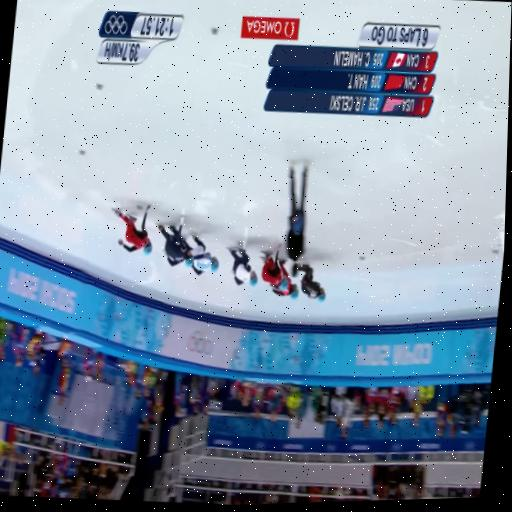Skater: (113, 204, 151, 253), (158, 214, 192, 266), (183, 235, 218, 274), (262, 243, 288, 289), (228, 245, 257, 285), (270, 258, 298, 298), (299, 264, 324, 300)
